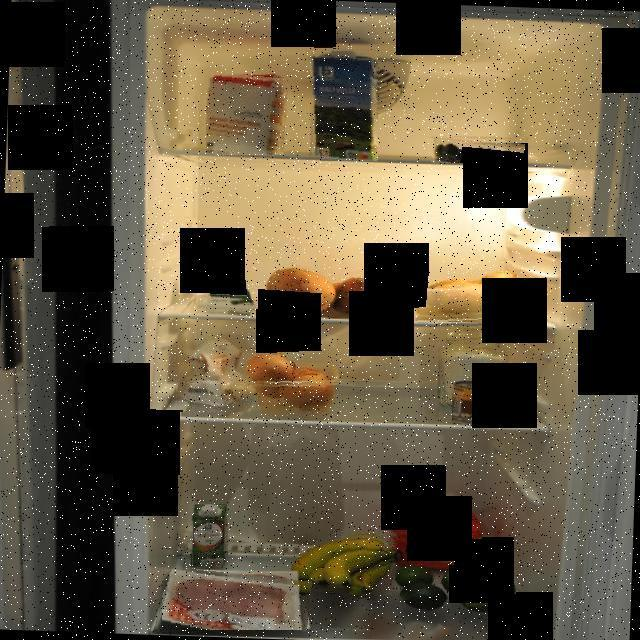banana: (291, 530, 406, 595)
blueberries: (429, 134, 525, 163)
butter: (383, 502, 482, 570)
corn: (452, 379, 504, 423)
flour: (174, 328, 252, 412)
goat_cheese: (198, 272, 258, 309)
ham: (162, 566, 312, 630)
heavy_cream: (190, 504, 228, 569)
lime: (392, 564, 516, 613)
milk: (304, 46, 378, 161)
onion: (242, 348, 339, 419)
potato: (414, 270, 524, 324)
sugar: (206, 71, 289, 155), (438, 324, 510, 412)
sweet_potato: (257, 260, 396, 317)
